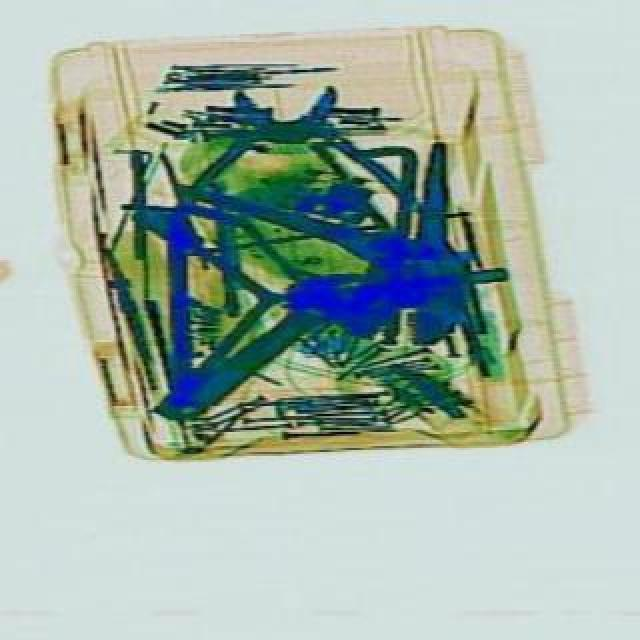wrench: (160, 78, 408, 220)
